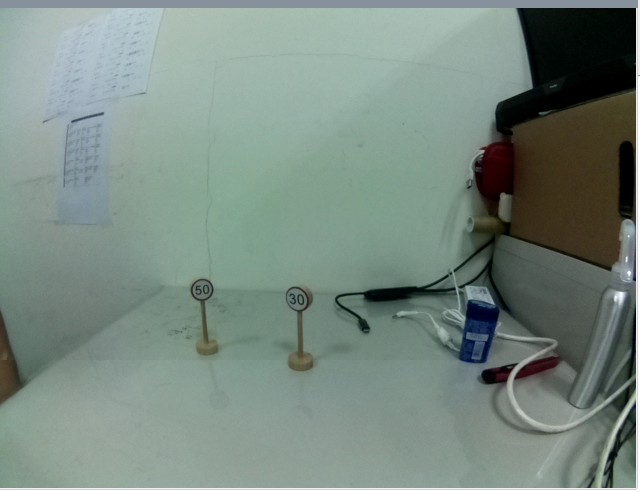Speed30: (285, 286, 314, 313)
Speed50: (190, 276, 214, 301)
